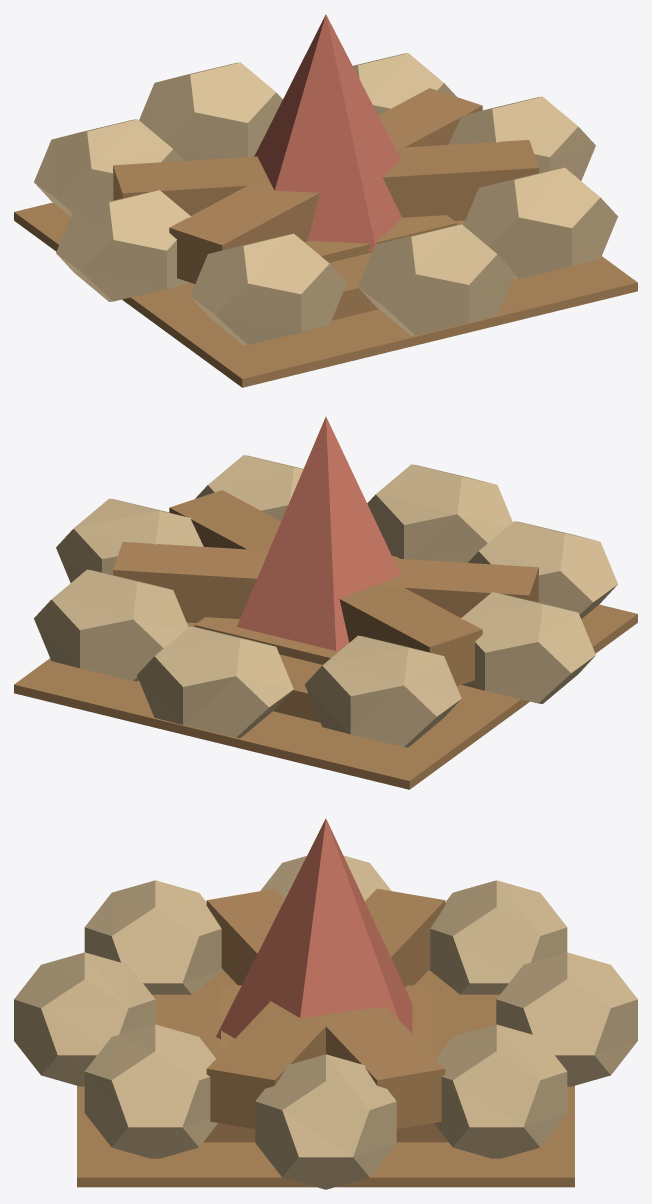
The model's file is campfire.source.glb.
3 renders of one model, top to bottom at view 1: azimuth 30°, elevation 25°; view 2: azimuth 150°, elevation 25°; view 3: azimuth 270°, elevation 25°, orthographic. The views are drawn at different scales.
Parts seen in each view (by area): view 1: campfire-grounded-ash-base-mesh, campfire-outer-faceted-flame-mesh, campfire-split-log-2-mesh, campfire-ring-stone-4-mesh, campfire-ring-stone-3-mesh, campfire-ring-stone-2-mesh, campfire-split-log-1-mesh, campfire-ring-stone-5-mesh, campfire-ring-stone-7-mesh, campfire-ring-stone-6-mesh, campfire-ring-stone-1-mesh, campfire-ring-stone-8-mesh (+2 smaller); view 2: campfire-grounded-ash-base-mesh, campfire-outer-faceted-flame-mesh, campfire-split-log-1-mesh, campfire-ring-stone-6-mesh, campfire-ring-stone-7-mesh, campfire-split-log-2-mesh, campfire-ring-stone-8-mesh, campfire-ring-stone-5-mesh, campfire-ring-stone-3-mesh, campfire-ring-stone-4-mesh, campfire-ring-stone-1-mesh, campfire-ring-stone-2-mesh (+2 smaller); view 3: campfire-outer-faceted-flame-mesh, campfire-grounded-ash-base-mesh, campfire-ring-stone-1-mesh, campfire-ring-stone-2-mesh, campfire-ring-stone-8-mesh, campfire-split-log-2-mesh, campfire-ring-stone-3-mesh, campfire-ring-stone-7-mesh, campfire-split-log-1-mesh, campfire-ring-stone-4-mesh, campfire-ring-stone-6-mesh, campfire-ember-bed-mesh (+2 smaller).
Part boxes in pixels (x1,y1,x2,y2): campfire-grounded-ash-base-mesh: (14, 202, 637, 387); campfire-outer-faceted-flame-mesh: (254, 14, 401, 251); campfire-split-log-2-mesh: (113, 140, 538, 220); campfire-ring-stone-4-mesh: (190, 233, 347, 345); campfire-ring-stone-3-mesh: (358, 224, 514, 335); campfire-ring-stone-2-mesh: (463, 167, 617, 279); campfire-split-log-1-mesh: (169, 88, 482, 283); campfire-ring-stone-5-mesh: (56, 190, 191, 301); campfire-ring-stone-7-mesh: (139, 62, 282, 160); campfire-ring-stone-6-mesh: (34, 119, 183, 216); campfire-ring-stone-1-mesh: (448, 96, 595, 180); campfire-ring-stone-8-mesh: (353, 53, 456, 115); campfire-grounded-ash-base-mesh: (14, 604, 637, 789); campfire-outer-faceted-flame-mesh: (237, 416, 400, 650); campfire-split-log-1-mesh: (113, 542, 538, 622); campfire-ring-stone-6-mesh: (304, 635, 461, 747); campfire-ring-stone-7-mesh: (137, 626, 293, 737); campfire-split-log-2-mesh: (169, 490, 482, 685); campfire-ring-stone-8-mesh: (34, 569, 188, 681); campfire-ring-stone-5-mesh: (460, 592, 595, 703); campfire-ring-stone-3-mesh: (367, 464, 512, 562); campfire-ring-stone-4-mesh: (468, 521, 617, 618); campfire-ring-stone-1-mesh: (56, 498, 203, 582); campfire-ring-stone-2-mesh: (195, 455, 303, 521); campfire-outer-faceted-flame-mesh: (216, 818, 412, 1039); campfire-grounded-ash-base-mesh: (77, 1086, 574, 1187); campfire-ring-stone-1-mesh: (255, 1054, 396, 1189); campfire-ring-stone-2-mesh: (84, 1024, 217, 1158); campfire-ring-stone-8-mesh: (434, 1024, 567, 1158); campfire-split-log-2-mesh: (206, 888, 445, 1128); campfire-ring-stone-3-mesh: (14, 952, 155, 1086); campfire-ring-stone-7-mesh: (496, 952, 637, 1086); campfire-split-log-1-mesh: (206, 888, 445, 1128); campfire-ring-stone-4-mesh: (84, 880, 222, 994); campfire-ring-stone-6-mesh: (429, 880, 567, 994); campfire-ember-bed-mesh: (152, 970, 499, 1142).
Bounding box in the file's own units: 2.48 × 1.11 × 2.38.
